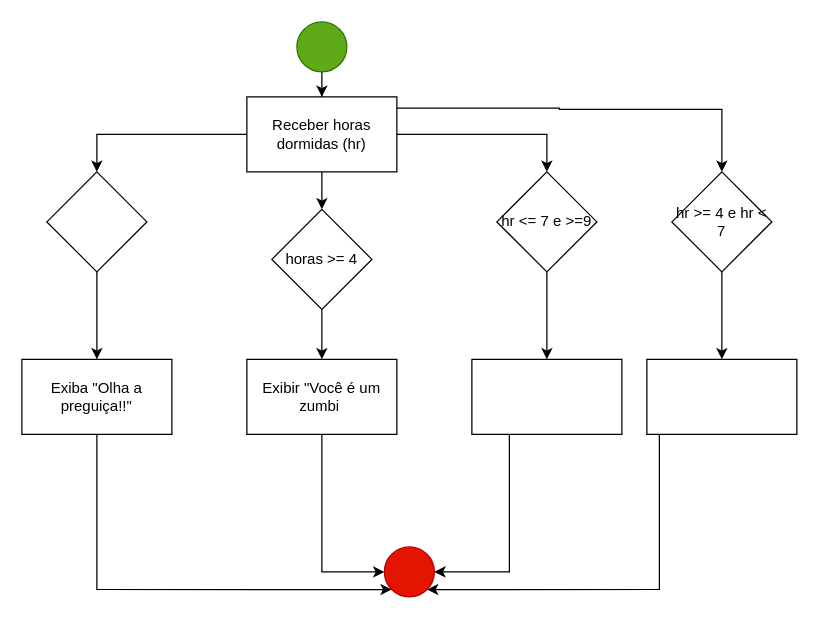
The diagram is 819 pixels wide and 623 high, and some of its shapes have lost their labels. The box of each missing label's shape, as (x1, y1, x2, y2) in pixels:
Exiba "Boa concentração": (471, 358, 622, 434)
Exiba "Pouca concentração": (646, 358, 797, 434)
hr < 9: (46, 171, 147, 272)
